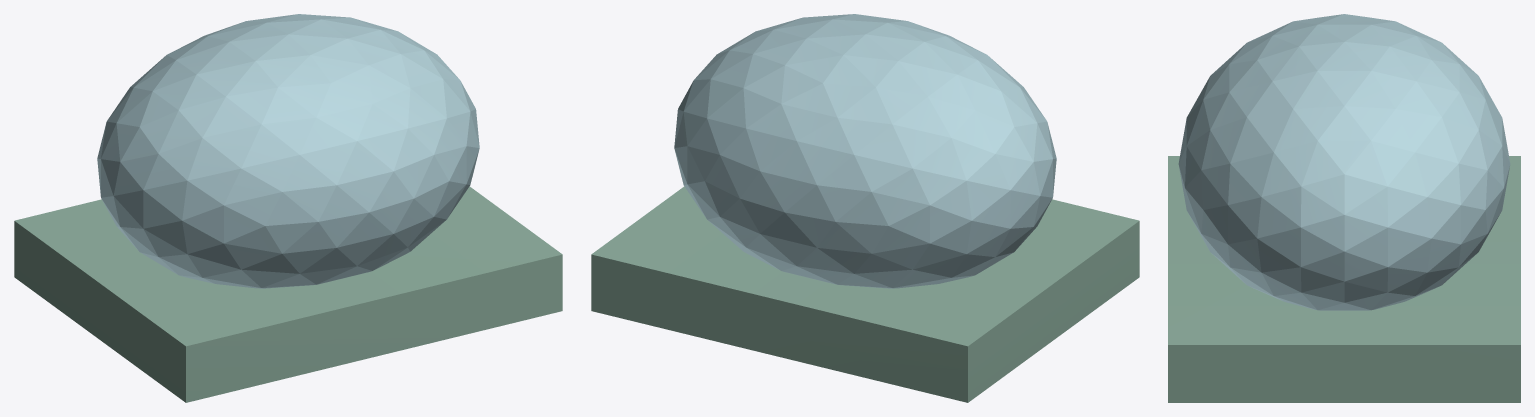
The model's file is observatory-04.glb.
3 views of the same model, side by side, from view 1: azimuth 30°, elevation 25°; view 2: azimuth 150°, elevation 25°; view 3: azimuth 270°, elevation 25° (orthographic). The views are drawn at different scales.
Visible parts, largest first — view 1: world; view 2: world; view 3: world.
Part boxes in pixels (box(x1,y1,x2,y2)): world: box(14, 14, 562, 402); world: box(591, 14, 1139, 402); world: box(1168, 14, 1520, 402).
Bounding box in the file's own units: 1.39 × 0.9179 × 1.1.
